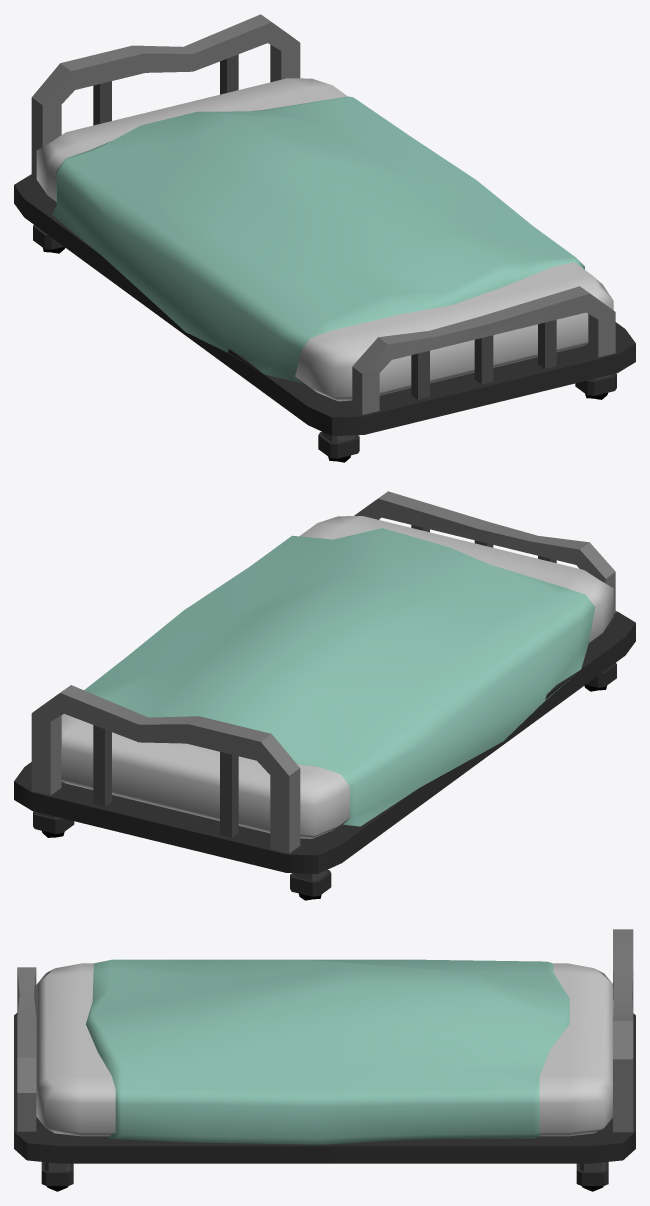
The model's file is Bed 03.fbx.
The picture shows the model from 3 angles, top to bottom: view 1: azimuth 30°, elevation 25°; view 2: azimuth 150°, elevation 25°; view 3: azimuth 270°, elevation 25°; orthographic projection. The views are drawn at different scales.
Parts seen in each view (by area): view 1: Bed_03; view 2: Bed_03; view 3: Bed_03.
Part boxes in pixels (x1,y1,x2,y2): Bed_03: (14,14,635,462); Bed_03: (14,491,635,900); Bed_03: (14,929,635,1191).
Bounding box in the file's own units: 136 × 66.72 × 242.
